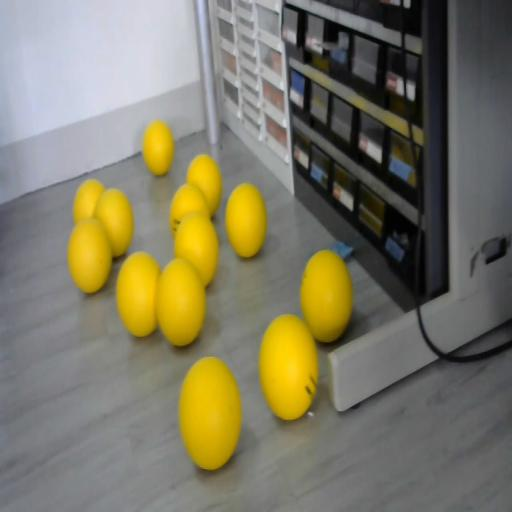FUEL: (178, 354, 242, 468), (258, 312, 319, 420), (298, 250, 352, 344), (116, 252, 160, 336), (173, 212, 220, 288), (67, 218, 113, 294), (225, 183, 266, 257), (186, 154, 223, 216), (142, 120, 174, 176), (72, 178, 106, 224)
